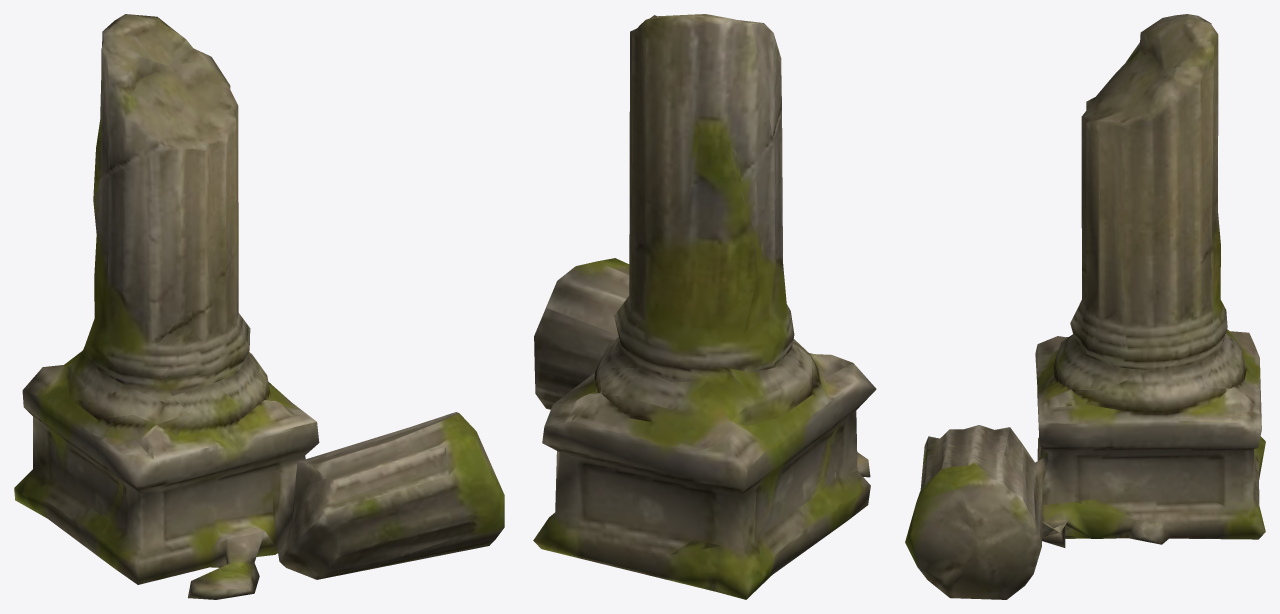
File: ruins_column_lod1.glb
3 renders of one model, left to right at view 1: azimuth 30°, elevation 25°; view 2: azimuth 150°, elevation 25°; view 3: azimuth 270°, elevation 25°, orthographic. The views are drawn at different scales.
Parts seen in each view (by area): view 1: ruins_column_lod1; view 2: ruins_column_lod1; view 3: ruins_column_lod1.
Part boxes in pixels (x1,y1,x2,y2): ruins_column_lod1: [14, 14, 504, 599]; ruins_column_lod1: [533, 14, 876, 599]; ruins_column_lod1: [905, 14, 1265, 599].
Bounding box in the file's own units: 2.03 × 2.99 × 2.09.
Materials: 1 (1 with a texture image).
